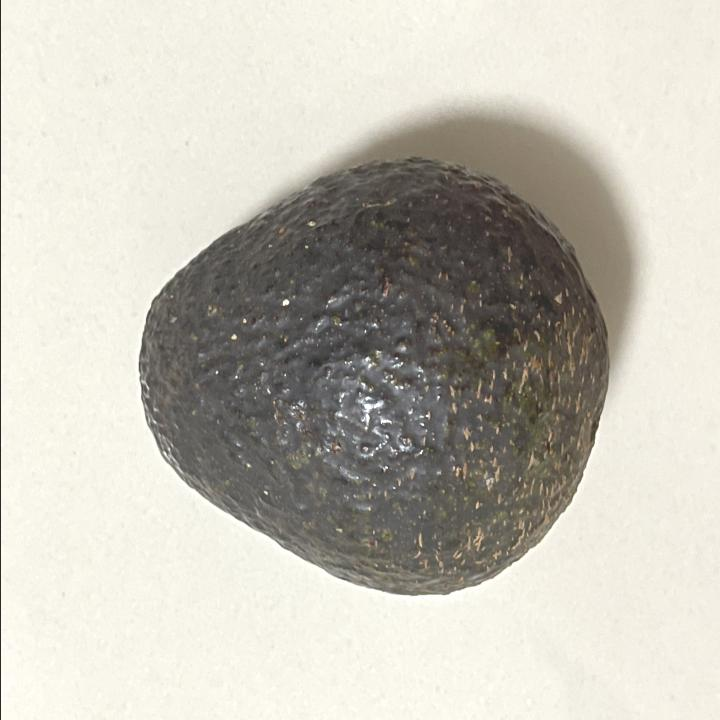Level2: (126, 150, 614, 605)
